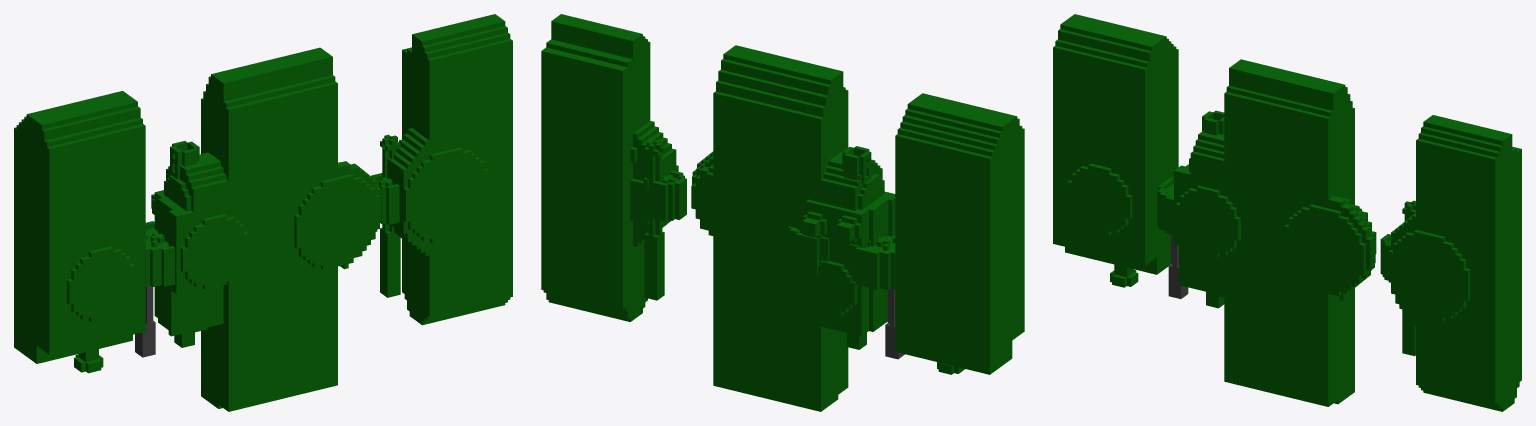
Rendered from constructor.fbx.
3 views of the same model, side by side, from view 1: azimuth 30°, elevation 25°; view 2: azimuth 150°, elevation 25°; view 3: azimuth 330°, elevation 25° (orthographic). The views are drawn at different scales.
Parts seen in each view (by area): view 1: imagetostl_mesh1, imagetostl_mesh3, imagetostl_mesh4, imagetostl_mesh2; view 2: imagetostl_mesh1, imagetostl_mesh3, imagetostl_mesh2, imagetostl_mesh4; view 3: imagetostl_mesh1, imagetostl_mesh3, imagetostl_mesh4, imagetostl_mesh2.
Boxes of the visible parts, x1,y1,x2,y2 form: imagetostl_mesh1: (14,14,512,411); imagetostl_mesh3: (67,128,495,336); imagetostl_mesh4: (74,134,400,373); imagetostl_mesh2: (145,173,399,286); imagetostl_mesh1: (541,14,1024,411); imagetostl_mesh3: (625,121,895,336); imagetostl_mesh2: (653,170,895,289); imagetostl_mesh4: (644,140,964,374); imagetostl_mesh1: (1053,14,1521,411); imagetostl_mesh3: (1067,131,1478,335); imagetostl_mesh4: (1110,110,1415,356); imagetostl_mesh2: (1157,178,1390,280).
Bounding box in the file's own units: 15.9 × 10.8 × 2.4.
